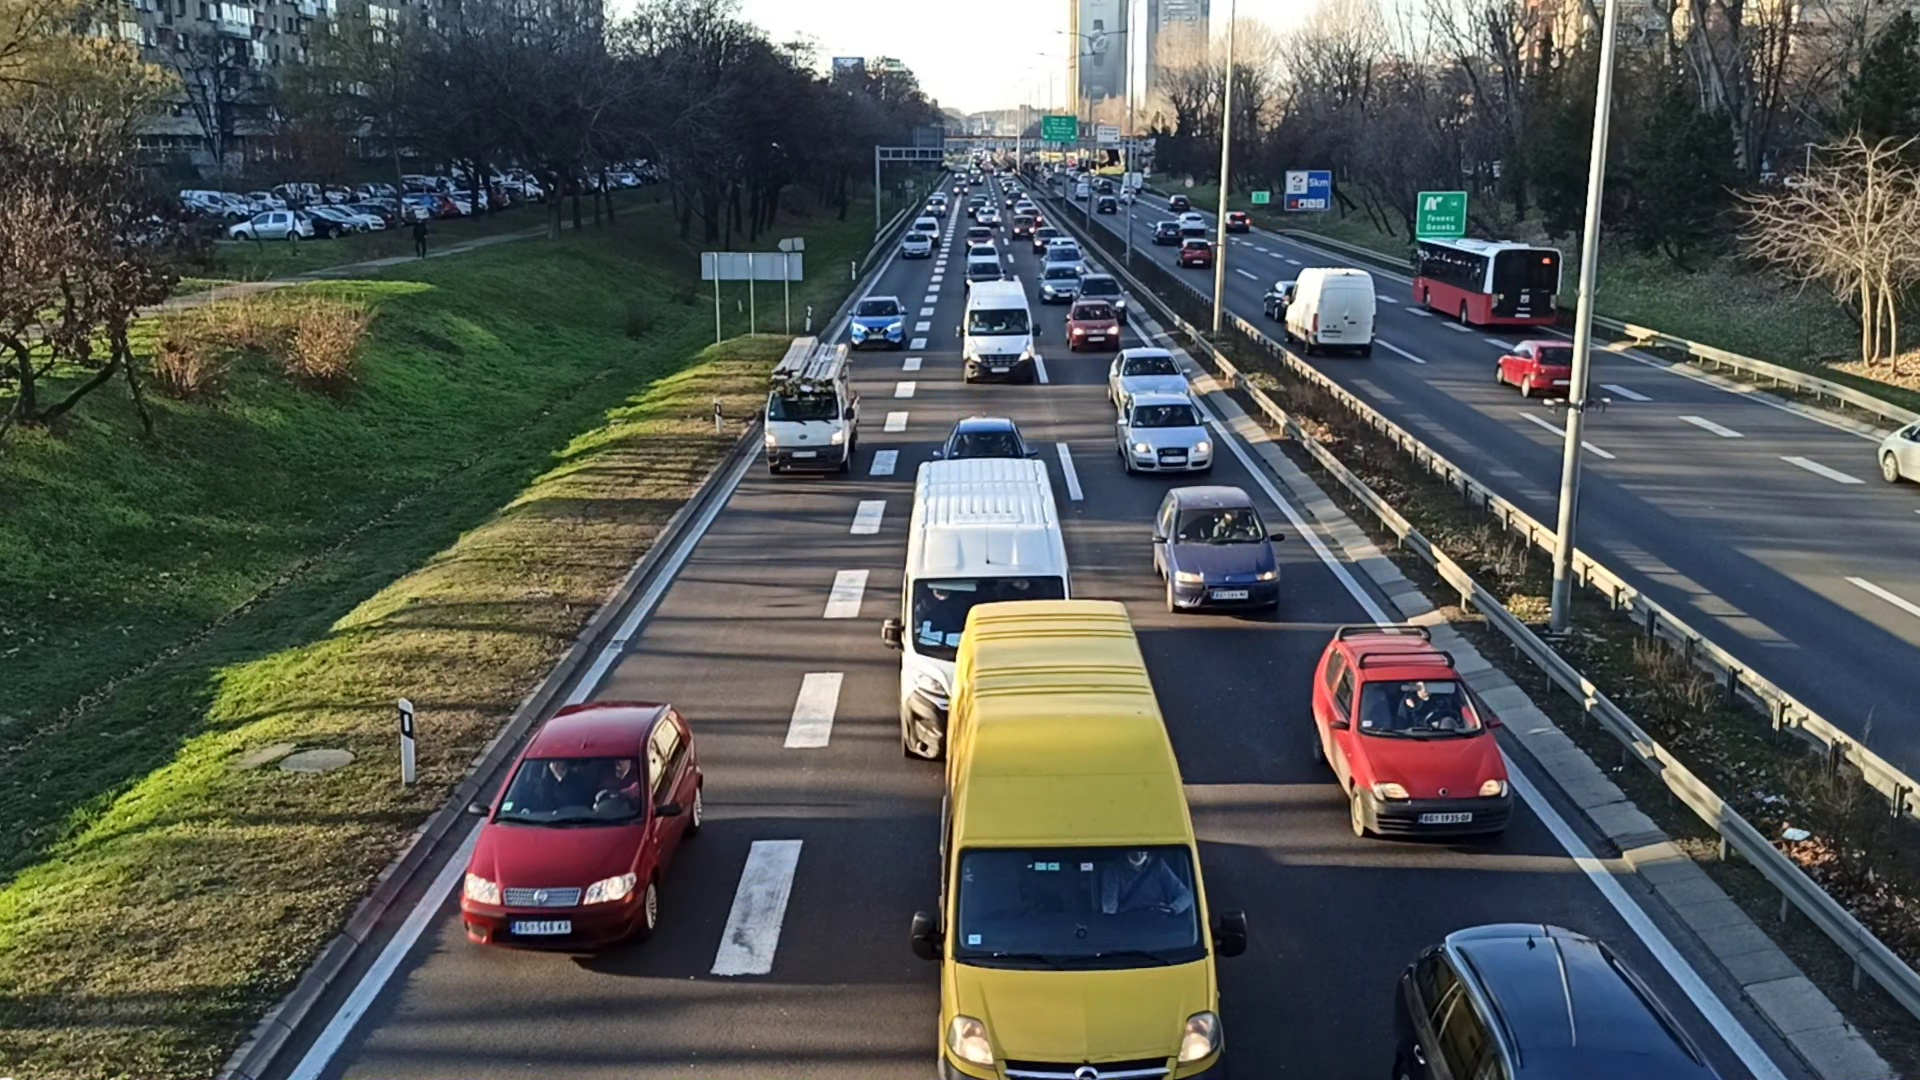bus: (1416, 233, 1557, 331)
car: (462, 703, 704, 959), (1309, 624, 1511, 844), (1153, 488, 1284, 621), (1116, 394, 1211, 472), (1495, 338, 1580, 400), (847, 294, 905, 348), (1065, 301, 1120, 351), (1042, 266, 1080, 299), (1179, 237, 1213, 272), (902, 232, 930, 256)
van: (945, 603, 1222, 1080), (910, 460, 1069, 748), (765, 339, 858, 473), (1288, 264, 1377, 353), (961, 280, 1035, 381)
